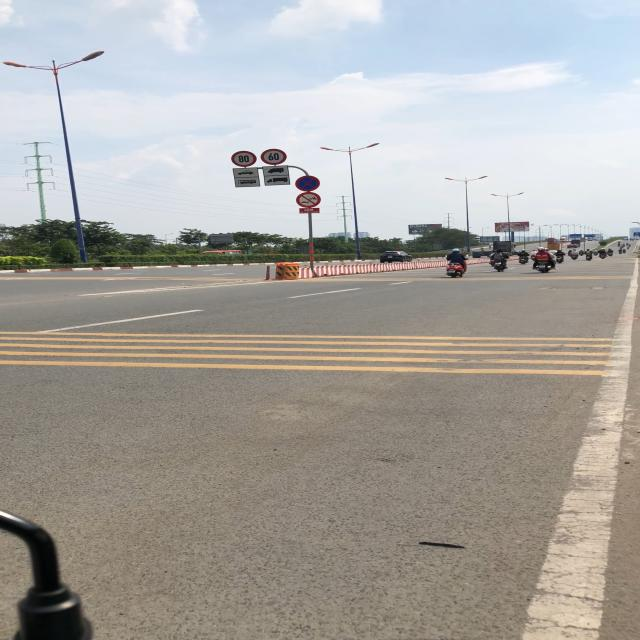Bien bao cam dung xe va do xe: (294, 175, 323, 192)
Bien bao toc do toi da cho phep: (229, 150, 260, 168), (260, 148, 289, 166)
